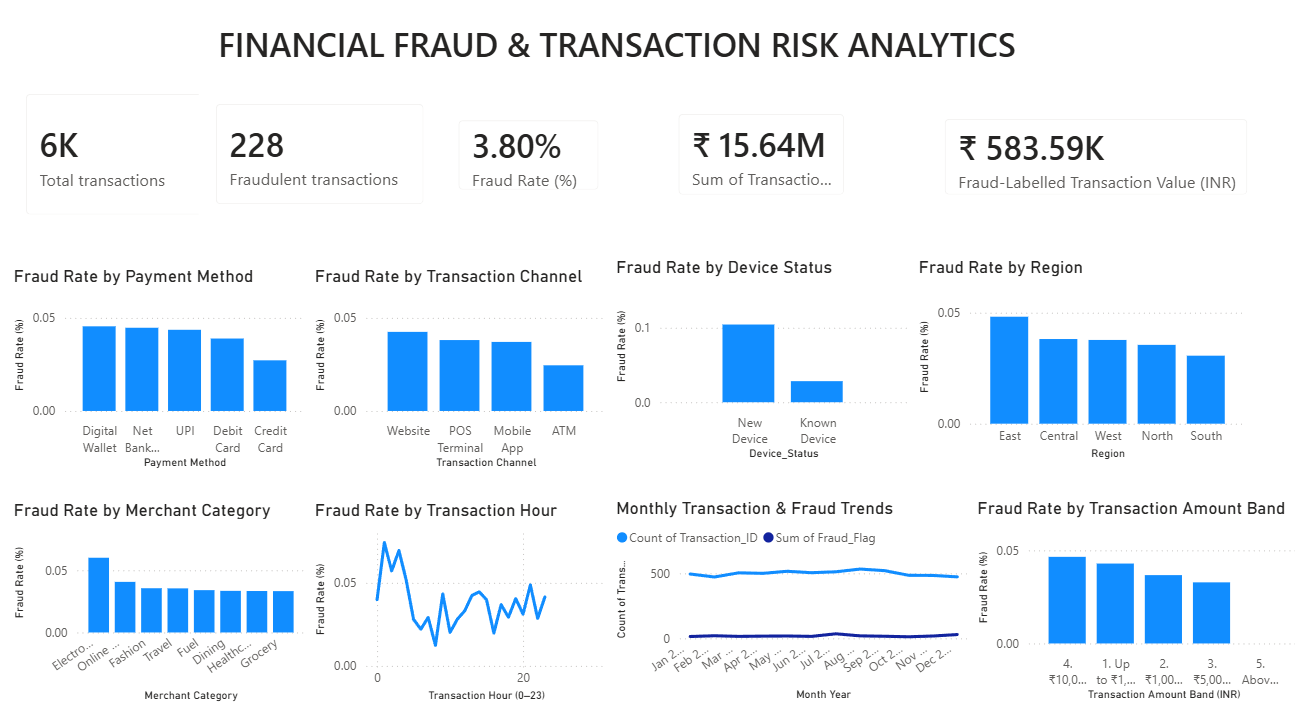

This screenshot's page, from the dashboard's own definition file:
{"tool":"powerbi","page":{"name":"Page 1","canvas":[1280,720],"ordinal":0},"visuals":[{"type":"cardVisual","fields":{"Data":["CountNonNull(Cleaned_Transaction_Data.Transaction_ID)"]},"box":[13,82.2,217.7,152.8],"z":0},{"type":"cardVisual","fields":{"Data":["Sum(Cleaned_Transaction_Data.Fraud_Flag)"]},"box":[199,92.3,237.9,132.6],"z":1000},{"type":"cardVisual","fields":{"Data":["Cleaned_Transaction_Data.Fraud Rate (%)"]},"box":[436.9,108.1,171.6,102.4],"z":2000},{"type":"cardVisual","fields":{"Data":["Sum(Cleaned_Transaction_Data.Transaction_Amount_INR)"]},"box":[651.7,100.9,196.1,113.9],"z":3000},{"type":"cardVisual","fields":{"Data":["Cleaned_Transaction_Data.Fraud-Labelled Transaction Value (INR)"]},"box":[912.6,106.7,330.2,108.1],"z":4000},{"type":"clusteredColumnChart","title":"Fraud Rate by Payment Method","fields":{"Category":["Cleaned_Transaction_Data.Payment_Method"],"Y":["Avg(Cleaned_Transaction_Data.Fraud_Flag)"]},"box":[13.3,266.7,294.7,203.3],"z":5000},{"type":"clusteredColumnChart","title":"Fraud Rate by Transaction Channel","fields":{"Category":["Cleaned_Transaction_Data.Transaction_Channel"],"Y":["Avg(Cleaned_Transaction_Data.Fraud_Flag)"]},"box":[307.9,266.7,294.7,203.3],"z":6000},{"type":"clusteredColumnChart","title":"Fraud Rate by Device Status","fields":{"Category":["Cleaned_Transaction_Data.Device_Status"],"Y":["Avg(Cleaned_Transaction_Data.Fraud_Flag)"]},"box":[602.6,257.8,294.7,203.3],"z":7000},{"type":"clusteredColumnChart","title":"Fraud Rate by Region","fields":{"Category":["Cleaned_Transaction_Data.Region"],"Y":["Avg(Cleaned_Transaction_Data.Fraud_Flag)"]},"box":[898.7,257.8,330,203.3],"z":8000},{"type":"clusteredColumnChart","title":"Fraud Rate  by Merchant Category","fields":{"Category":["Cleaned_Transaction_Data.Merchant_Category"],"Y":["Avg(Cleaned_Transaction_Data.Fraud_Flag)"]},"box":[13.3,495,294.7,203.3],"z":9000},{"type":"lineChart","title":"Fraud Rate by Transaction Hour","fields":{"Category":["Cleaned_Transaction_Data.Transaction_Hour"],"Y":["Avg(Cleaned_Transaction_Data.Fraud_Flag)"]},"box":[308,495,295,203],"z":10000},{"type":"lineChart","title":"Monthly Transaction & Fraud Trends","fields":{"Y":["CountNonNull(Cleaned_Transaction_Data.Transaction_ID)","Sum(Cleaned_Transaction_Data.Fraud_Flag)"],"Category":["Cleaned_Transaction_Data.Month Year"]},"box":[602.7,494.5,353.2,203.3],"z":11000},{"type":"clusteredColumnChart","title":"Fraud Rate by Transaction Amount Band","fields":{"Category":["Cleaned_Transaction_Data.Transaction Amount Band"],"Y":["Avg(Cleaned_Transaction_Data.Fraud_Flag)"]},"box":[955.9,494.5,324.4,203.3],"z":11001},{"type":"textbox","box":[186,23.1,844.9,59.1],"z":11002}]}

Visuals, with their boxes on the page's 1280x720 design canvas (x1, y1, x2, y2). These are canvas units, not pixel positions in the 1295x707 screenshot, which may show the page scaled, cropped or inside an application window:
cardVisual - CountNonNull(Cleaned_Transaction_Data.Transaction_ID): locate(13, 82, 231, 235)
cardVisual - Sum(Cleaned_Transaction_Data.Fraud_Flag): locate(199, 92, 437, 225)
cardVisual - Cleaned_Transaction_Data.Fraud Rate (%): locate(437, 108, 608, 210)
cardVisual - Sum(Cleaned_Transaction_Data.Transaction_Amount_INR): locate(652, 101, 848, 215)
cardVisual - Cleaned_Transaction_Data.Fraud-Labelled Transaction Value (INR): locate(913, 107, 1243, 215)
"Fraud Rate by Payment Method" clusteredColumnChart: locate(13, 267, 308, 470)
"Fraud Rate by Transaction Channel" clusteredColumnChart: locate(308, 267, 603, 470)
"Fraud Rate by Device Status" clusteredColumnChart: locate(603, 258, 897, 461)
"Fraud Rate by Region" clusteredColumnChart: locate(899, 258, 1229, 461)
"Fraud Rate  by Merchant Category" clusteredColumnChart: locate(13, 495, 308, 698)
"Fraud Rate by Transaction Hour" lineChart: locate(308, 495, 603, 698)
"Monthly Transaction & Fraud Trends" lineChart: locate(603, 494, 956, 698)
"Fraud Rate by Transaction Amount Band" clusteredColumnChart: locate(956, 494, 1280, 698)
textbox: locate(186, 23, 1031, 82)
